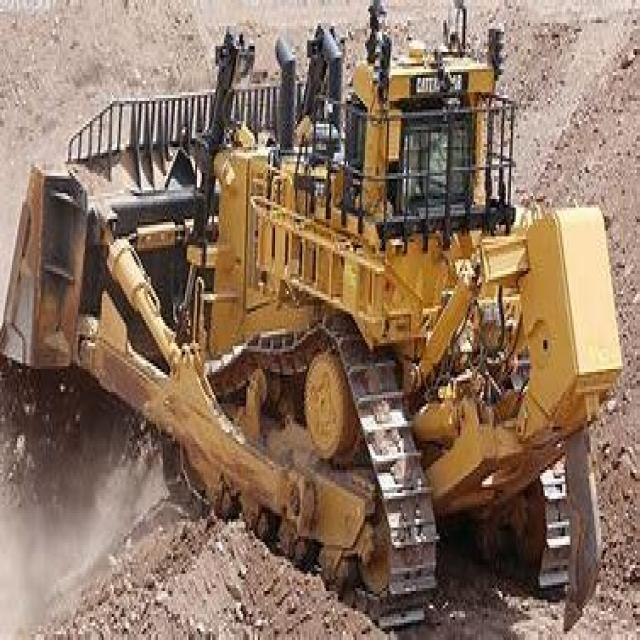Bulldozer: (7, 14, 638, 623)
